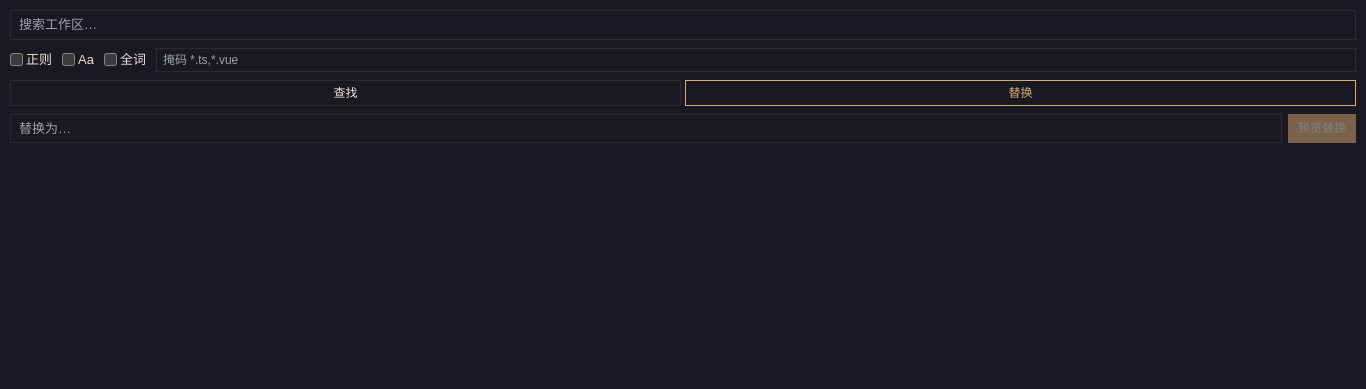
Test: SearchPanel 替换模式 › 应用部分失败时 toast 提示 danger
The width and height of the screenshot is (1366, 389).
Type "foo" into the field with class "search-input" at [683, 25], box [10, 10, 1356, 40]
Wait 300 ms
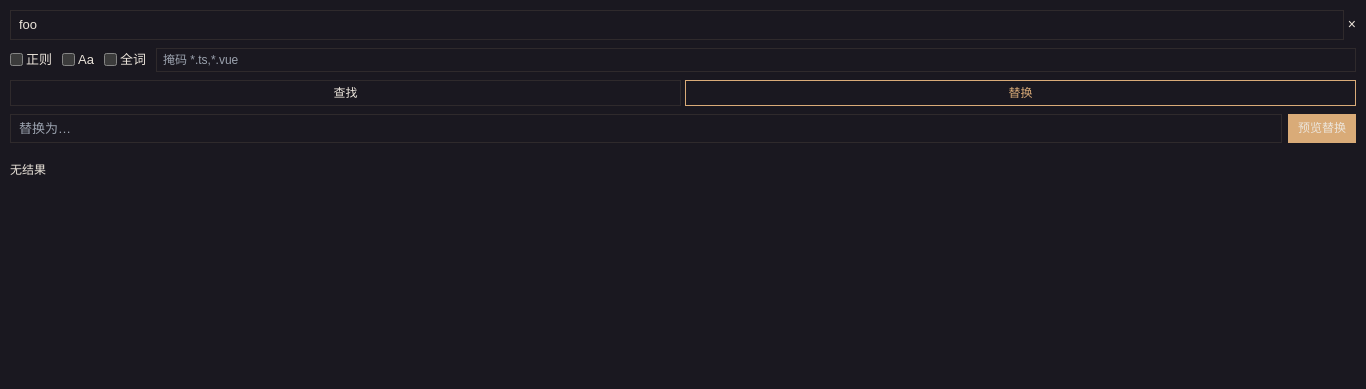
Type "bar" into the field with class "replace-input" at [646, 128], box [10, 114, 1282, 143]
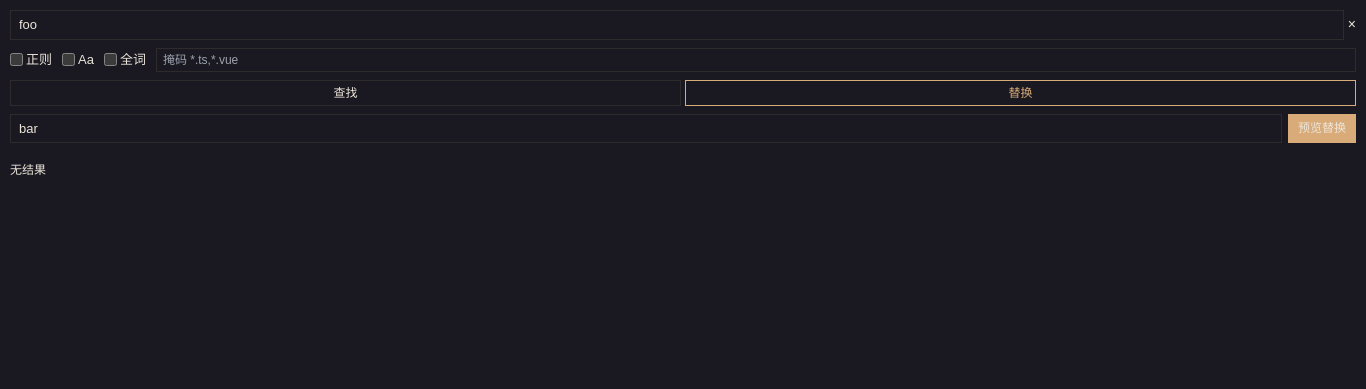
Click the button "预览替换" at [1322, 128], box [1288, 114, 1356, 143]
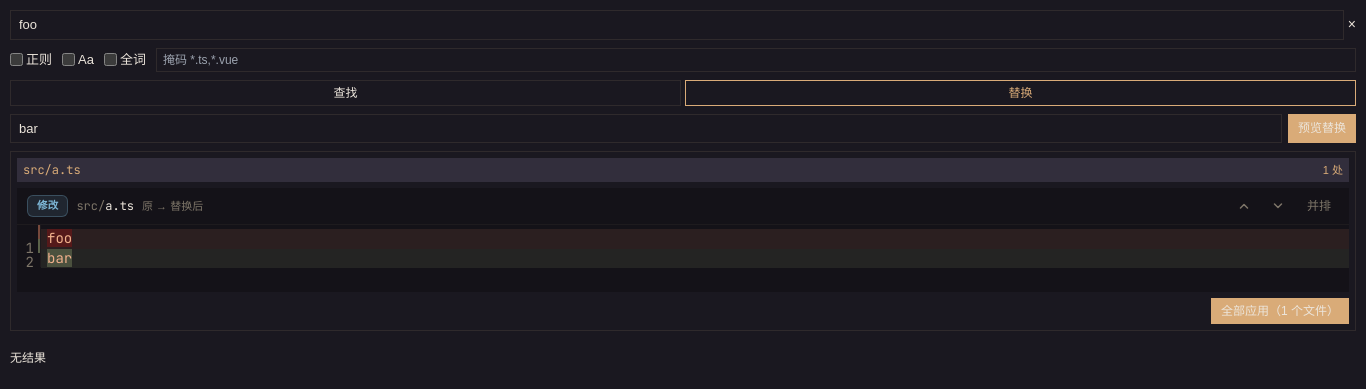
Click the button with class "apply-all-btn" at [1280, 311], box [1211, 298, 1349, 324]
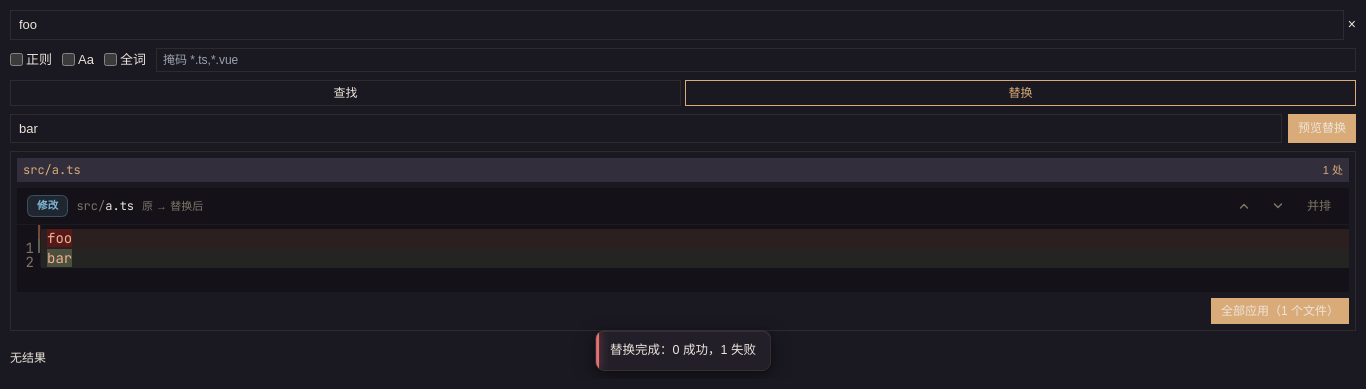
Now the text "失败" is shown, box [610, 343, 756, 357]
